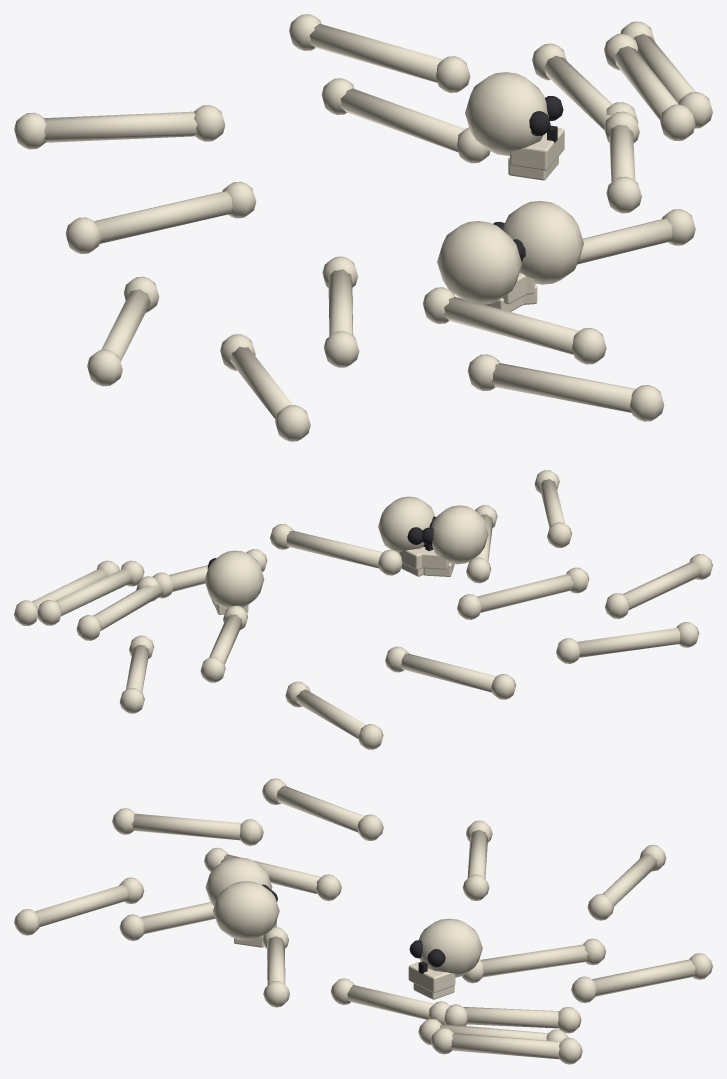
File: bone_heap_bone_scatter.glb
3 views of the same model, one above another, from view 1: azimuth 30°, elevation 25°; view 2: azimuth 150°, elevation 25°; view 3: azimuth 270°, elevation 25° (orthographic). The views are drawn at different scales.
Parts seen in each view (by area): view 1: GD_bone_heap_bone_scatter__m0, GD_bone_heap_bone_scatter__m1; view 2: GD_bone_heap_bone_scatter__m0, GD_bone_heap_bone_scatter__m1; view 3: GD_bone_heap_bone_scatter__m0, GD_bone_heap_bone_scatter__m1.
Boxes of the visible parts, x1,y1,x2,y2 form: GD_bone_heap_bone_scatter__m0: (14, 14, 712, 441); GD_bone_heap_bone_scatter__m1: (493, 96, 563, 261); GD_bone_heap_bone_scatter__m0: (14, 470, 712, 749); GD_bone_heap_bone_scatter__m1: (207, 516, 436, 568); GD_bone_heap_bone_scatter__m0: (14, 778, 712, 1064); GD_bone_heap_bone_scatter__m1: (262, 884, 445, 973).
Size of the model in its own units: 1 by 0.1158 by 1.1.
